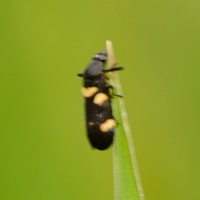insect: (78, 51, 122, 149)
